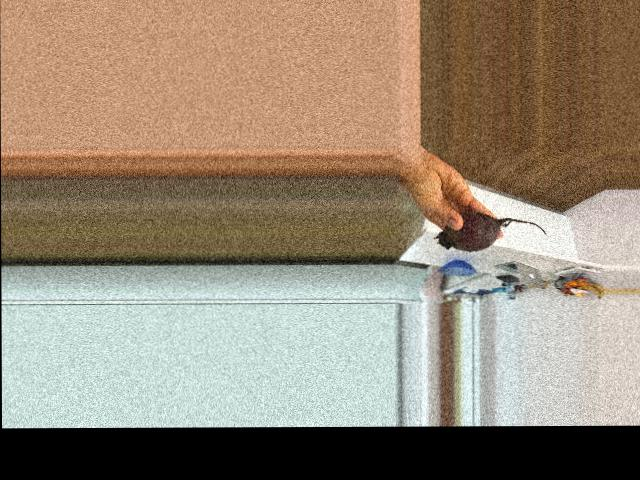beet: (435, 211, 547, 251)
